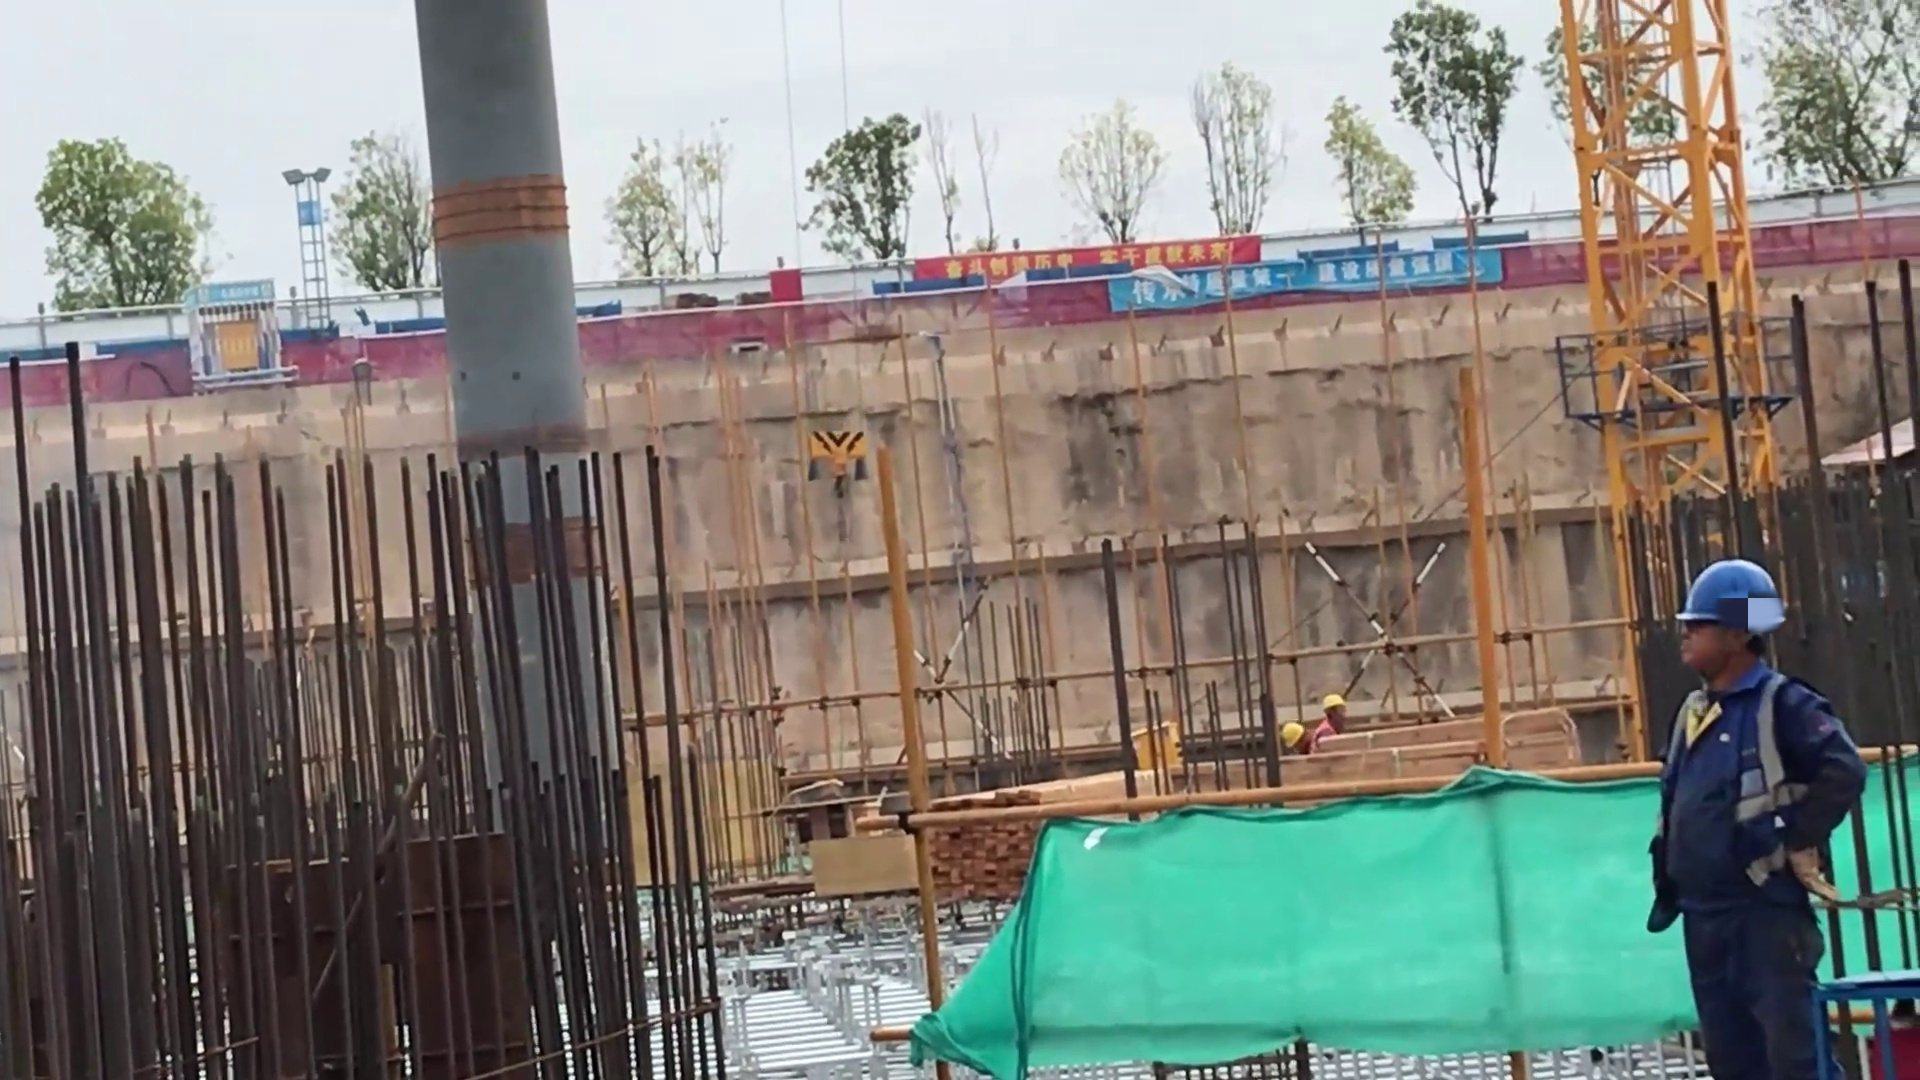ebox: (199, 317, 263, 370), (1134, 719, 1182, 767)
helmet: (1676, 560, 1785, 634), (1281, 722, 1304, 748), (1322, 694, 1346, 710)
hook: (805, 425, 873, 501)
person: (1652, 553, 1877, 1080), (1309, 693, 1346, 755), (1280, 721, 1317, 755)
slogan: (1111, 250, 1500, 311), (916, 237, 1259, 280)
vest: (1659, 679, 1872, 930)
wood: (1327, 713, 1577, 774), (933, 790, 1037, 901)
